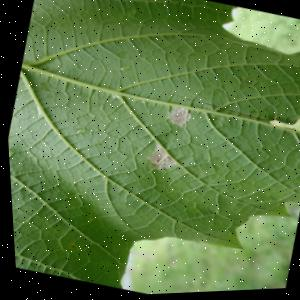Folha: (0, 0, 300, 300)
Fungo: (139, 142, 179, 176), (161, 105, 190, 130), (116, 63, 130, 74), (63, 242, 72, 248)
